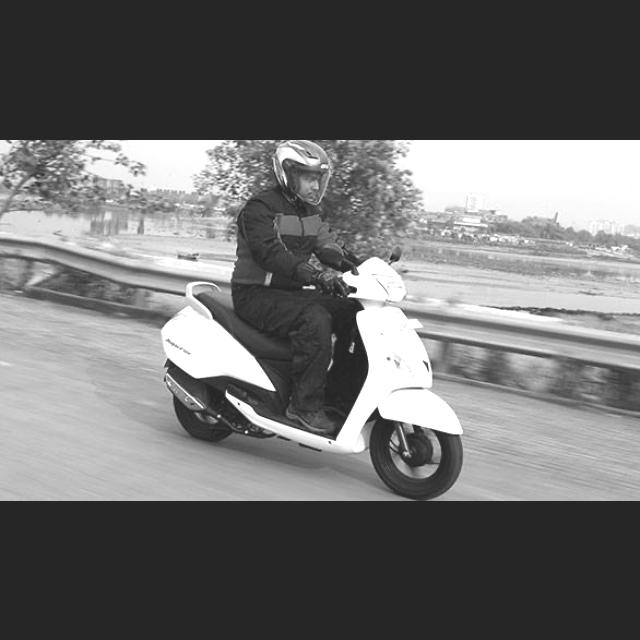With Helmet: (270, 138, 336, 208)
